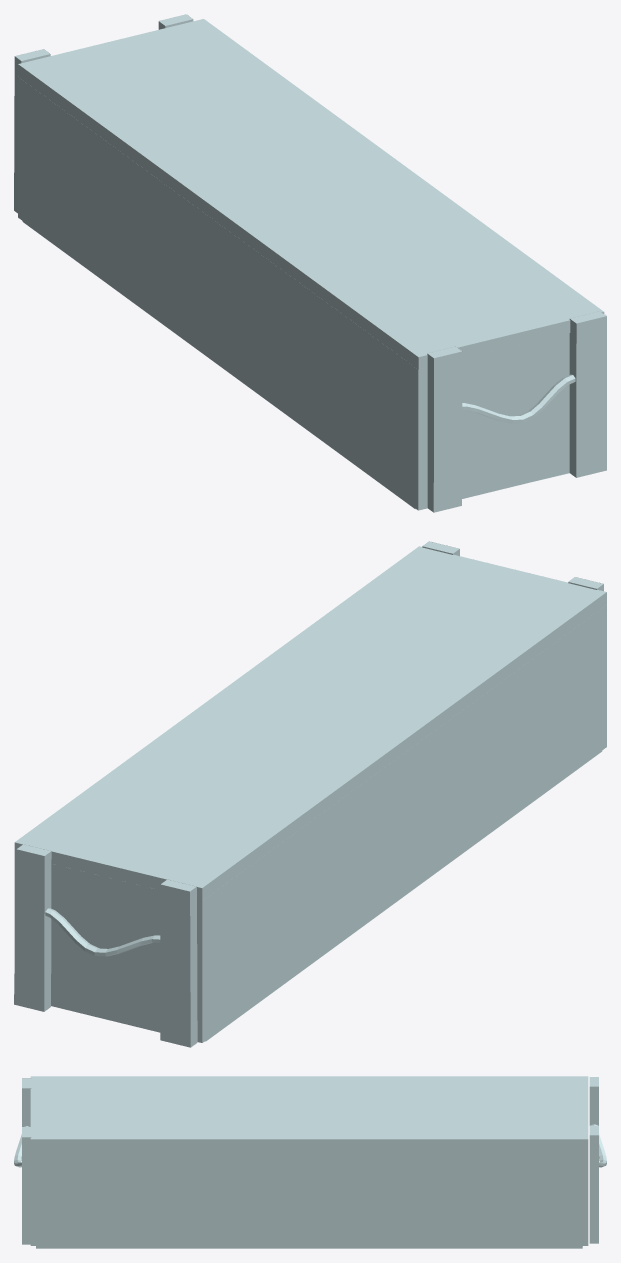
The model's file is MysteryBox.fbx.
3 renders of one model, top to bottom at view 1: azimuth 30°, elevation 25°; view 2: azimuth 150°, elevation 25°; view 3: azimuth 270°, elevation 25°, orthographic. The views are drawn at different scales.
Parts seen in each view (by area): view 1: mysterybox; view 2: mysterybox; view 3: mysterybox.
Boxes of the visible parts, x1,y1,x2,y2 form: mysterybox: (14, 14, 606, 512); mysterybox: (14, 541, 606, 1047); mysterybox: (14, 1076, 606, 1248).
Bounding box in the file's own units: 2410 × 1967 × 9561.
